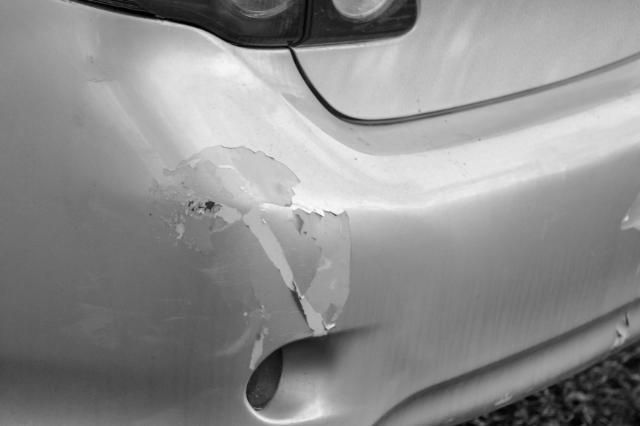Bumper: (166, 126, 355, 426)
